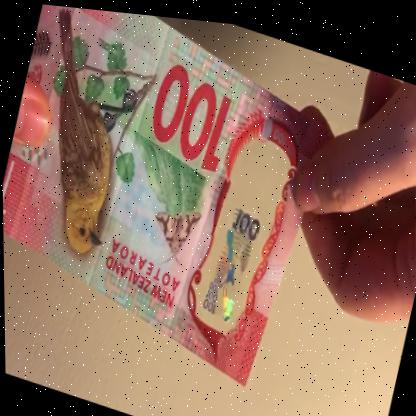100B: (196, 165, 271, 331)
